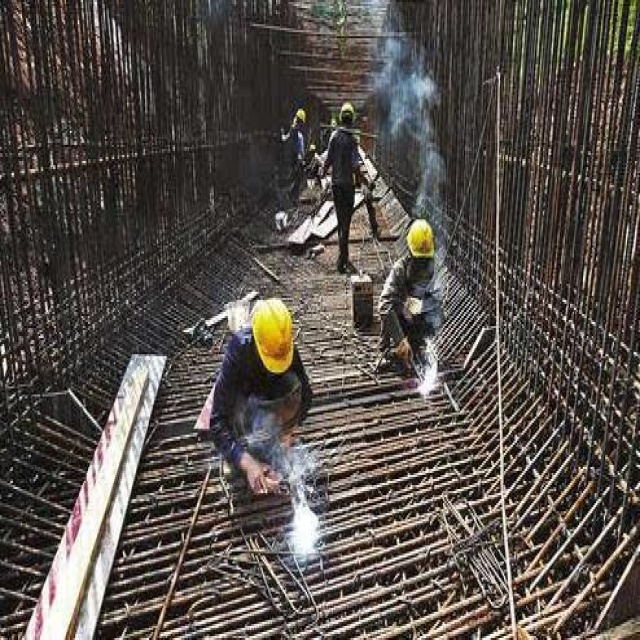Helmet: (248, 290, 300, 384), (400, 212, 441, 273)
